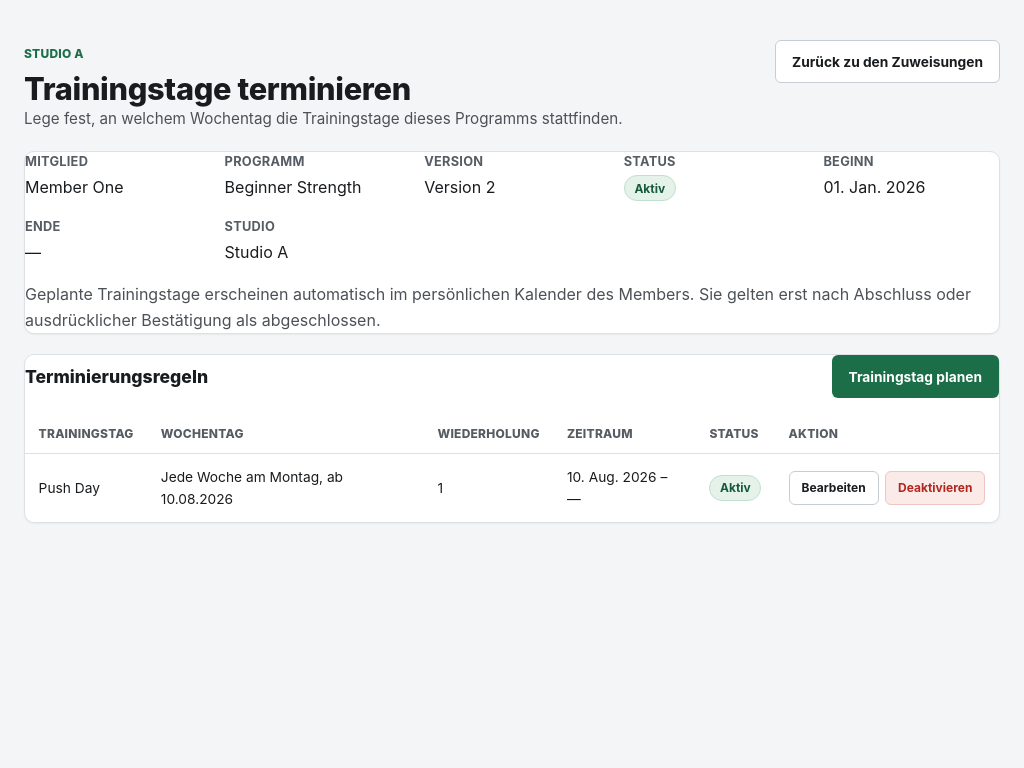
Test: ScheduleRulesView › on a 409 conflict, reloads rules and shows a conflict message without a false success
This screenshot has width=1024, height=768.
Click the button "Trainingstag planen" at [915, 377], box [832,355,999,398]
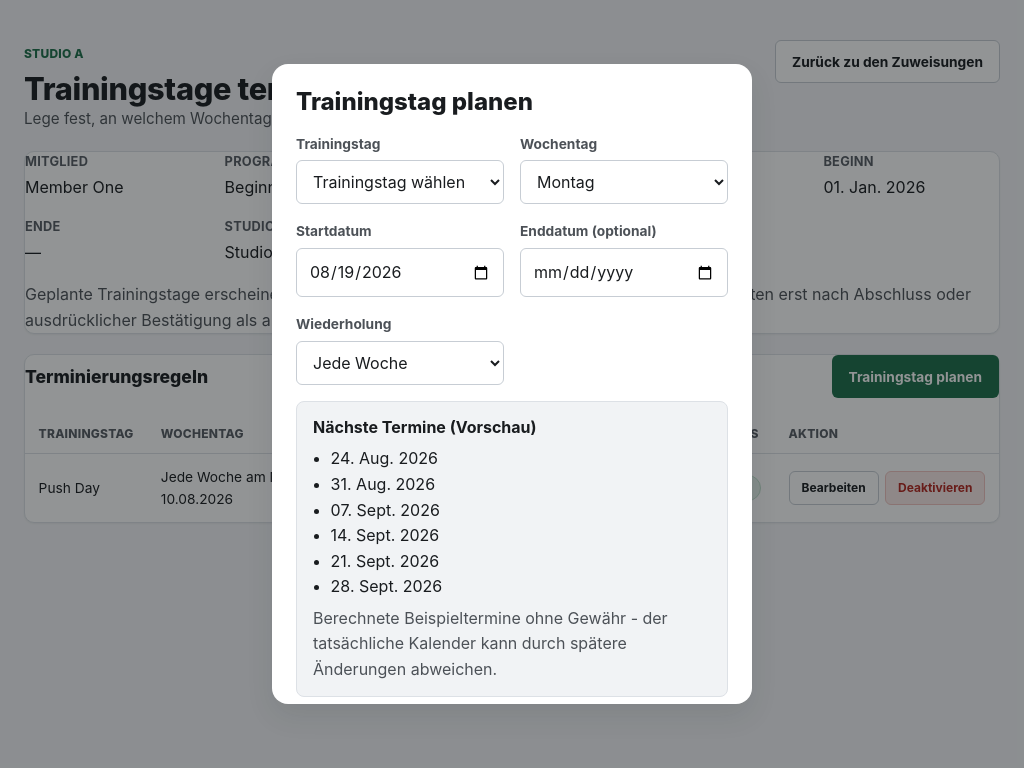
Select "2. Pull Day" in the dropdown with id "rule-program-day" at [400, 182], box [296,160,504,204]
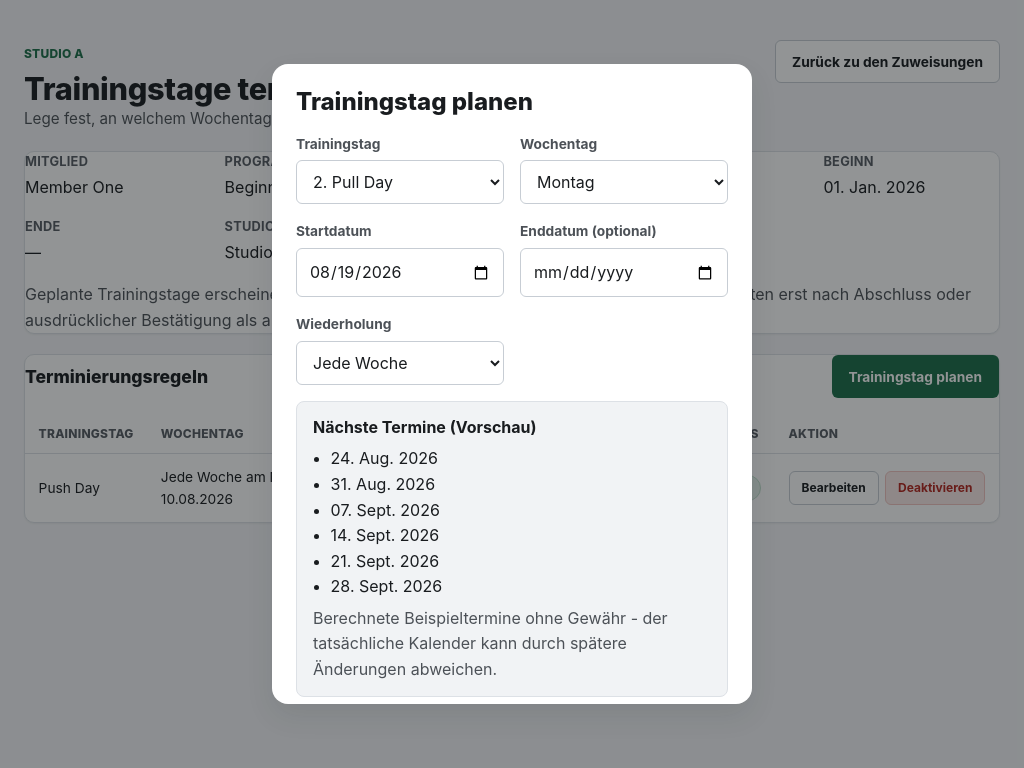
Type "2026-08-10" into the date field with id "rule-start" at [400, 272], box [296,248,504,297]
(page scrolled)
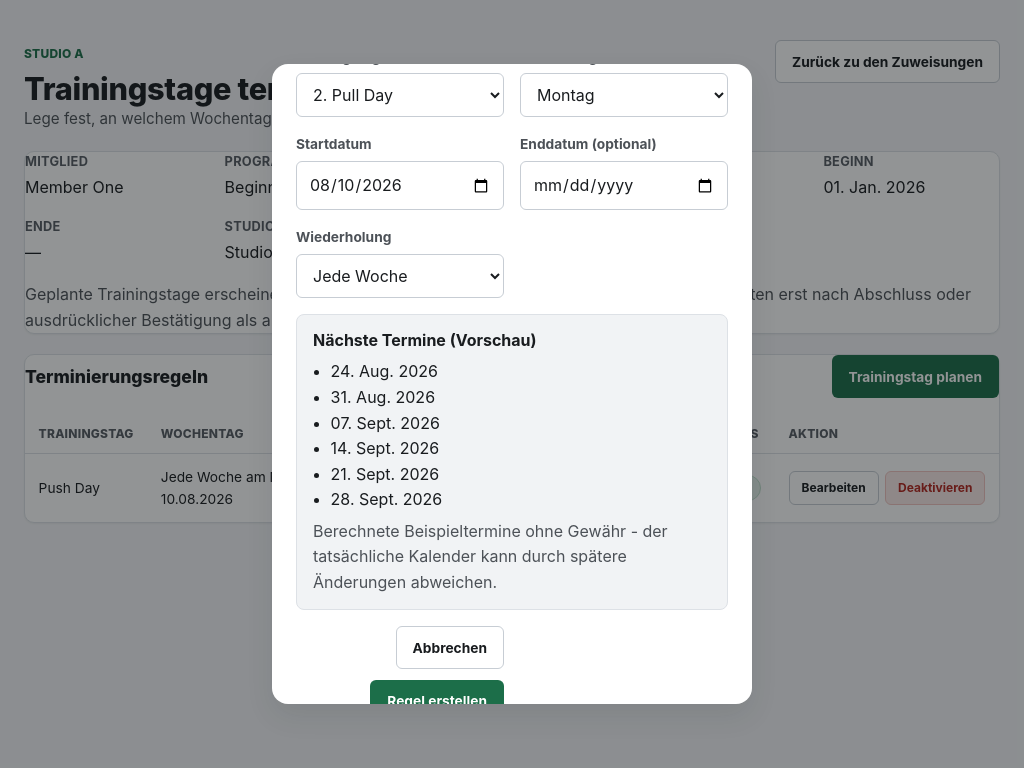
Submit the form, box [296,46,728,723]
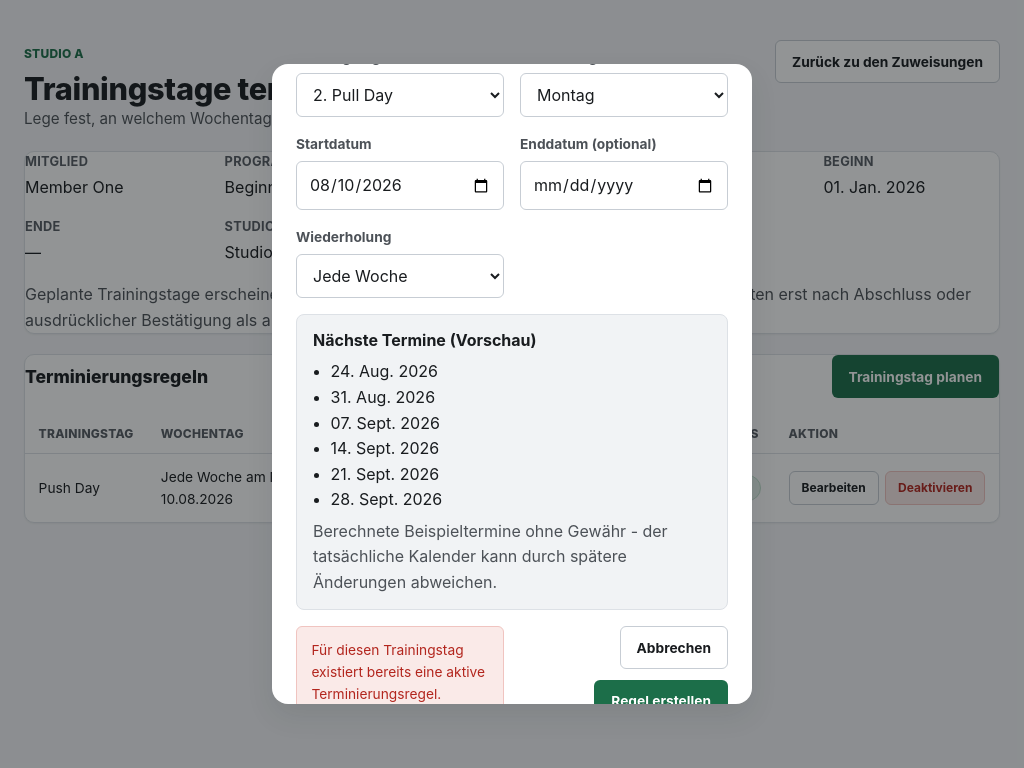
Now the dialog is shown, box [272,64,752,704]
Now the dialog shows "Für diesen Trainingstag existiert bereits eine aktive Terminierungsregel.", box [311,642,485,702]
